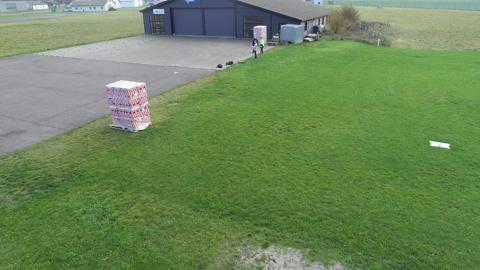RockwoolPallet: (106, 80, 152, 133)
